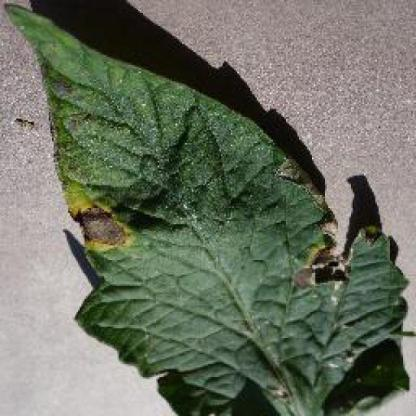Tomato_Blight: (3, 3, 408, 408)
